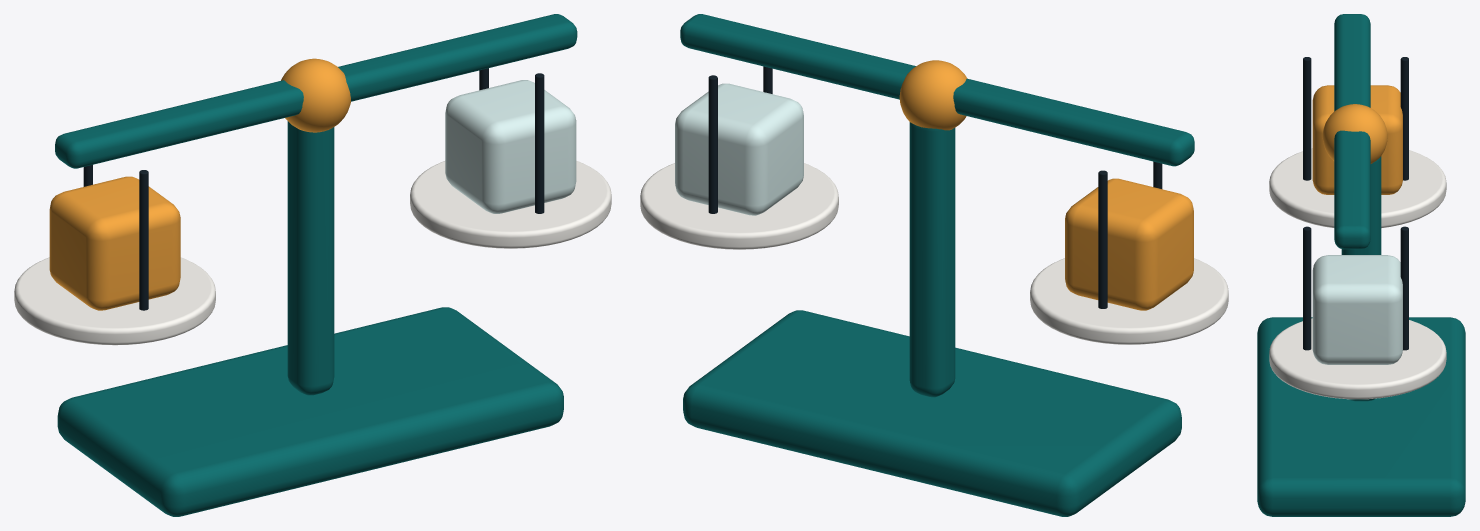
Rendered from balance-scale.glb.
3 views of the same model, side by side, from view 1: azimuth 30°, elevation 25°; view 2: azimuth 150°, elevation 25°; view 3: azimuth 270°, elevation 25° (orthographic). The views are drawn at different scales.
Parts seen in each view (by area): view 1: base, beam, left_block, right_block, post, left_pan, right_pan, pivot, left_cord_1, right_cord_1; view 2: base, beam, left_block, right_block, post, left_pan, right_pan, pivot, right_cord_0, left_cord_0; view 3: base, right_block, beam, right_pan, left_pan, left_block, pivot, post, right_cord_1, left_cord_1, right_cord_0, left_cord_0.
Boxes of the visible parts, x1=… form: base: x1=57, y1=307, x2=563, y2=516; beam: x1=55, y1=14, x2=577, y2=168; left_block: x1=49, y1=176, x2=180, y2=310; right_block: x1=445, y1=80, x2=576, y2=213; post: x1=287, y1=121, x2=334, y2=395; left_pan: x1=14, y1=257, x2=215, y2=345; right_pan: x1=410, y1=161, x2=611, y2=248; pivot: x1=281, y1=58, x2=350, y2=132; left_cord_1: x1=139, y1=170, x2=148, y2=310; right_cord_1: x1=535, y1=73, x2=544, y2=213; base: x1=683, y1=310, x2=1181, y2=516; beam: x1=680, y1=14, x2=1194, y2=166; left_block: x1=1065, y1=178, x2=1193, y2=310; right_block: x1=675, y1=83, x2=803, y2=215; post: x1=909, y1=122, x2=955, y2=397; left_pan: x1=1030, y1=258, x2=1228, y2=344; right_pan: x1=640, y1=163, x2=838, y2=249; pivot: x1=899, y1=60, x2=967, y2=130; right_cord_0: x1=708, y1=75, x2=717, y2=213; left_cord_0: x1=1098, y1=170, x2=1107, y2=308; base: x1=1257, y1=317, x2=1465, y2=516; right_block: x1=1312, y1=255, x2=1402, y2=364; beam: x1=1334, y1=14, x2=1370, y2=249; right_pan: x1=1269, y1=318, x2=1446, y2=399; left_pan: x1=1269, y1=148, x2=1446, y2=228; left_block: x1=1312, y1=85, x2=1402, y2=194; pivot: x1=1322, y1=104, x2=1387, y2=163; post: x1=1341, y1=156, x2=1381, y2=401; right_cord_1: x1=1303, y1=226, x2=1311, y2=350; left_cord_1: x1=1303, y1=57, x2=1311, y2=180; right_cord_0: x1=1400, y1=226, x2=1408, y2=350; left_cord_0: x1=1400, y1=57, x2=1408, y2=180.
Bounding box in the file's own units: 3.2 × 2 × 1.15.
